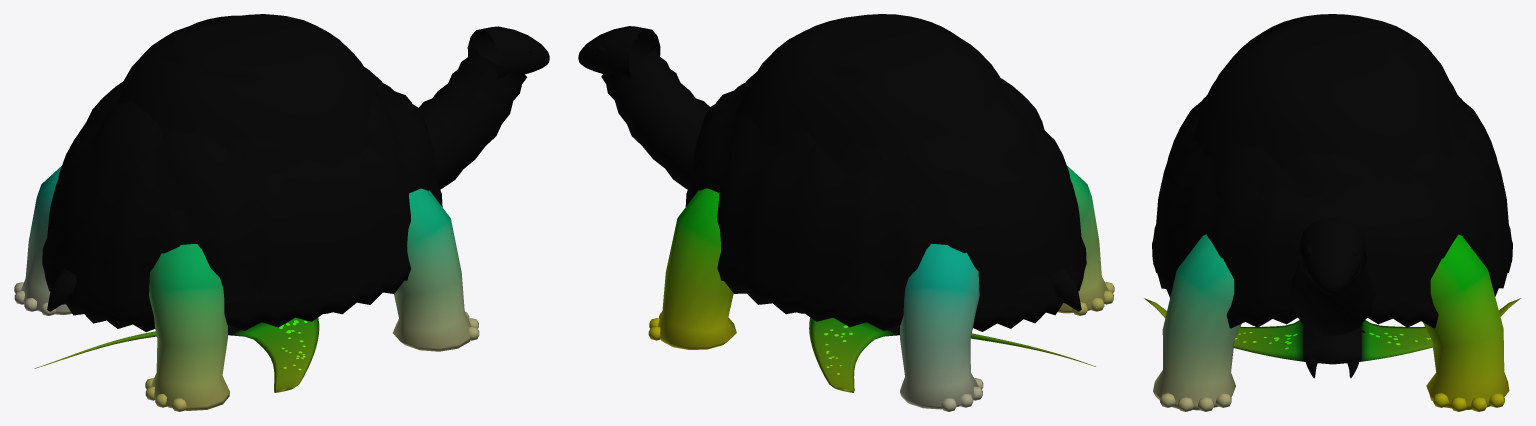
Rendered from fauna.fbx.
3 views of the same model, side by side, from view 1: azimuth 30°, elevation 25°; view 2: azimuth 150°, elevation 25°; view 3: azimuth 270°, elevation 25° (orthographic). The views are drawn at different scales.
Visible parts, largest first — view 1: Tortoise, SkyManta; view 2: Tortoise, SkyManta; view 3: Tortoise, SkyManta.
Boxes of the visible parts, <box> form: Tortoise: <box>14,14,549,411</box>; SkyManta: <box>34,311,332,392</box>; Tortoise: <box>578,14,1114,411</box>; SkyManta: <box>797,311,1095,392</box>; Tortoise: <box>1152,14,1512,411</box>; SkyManta: <box>1144,298,1520,378</box>.
Size of the model in its own units: 14.72 by 7.87 by 9.
